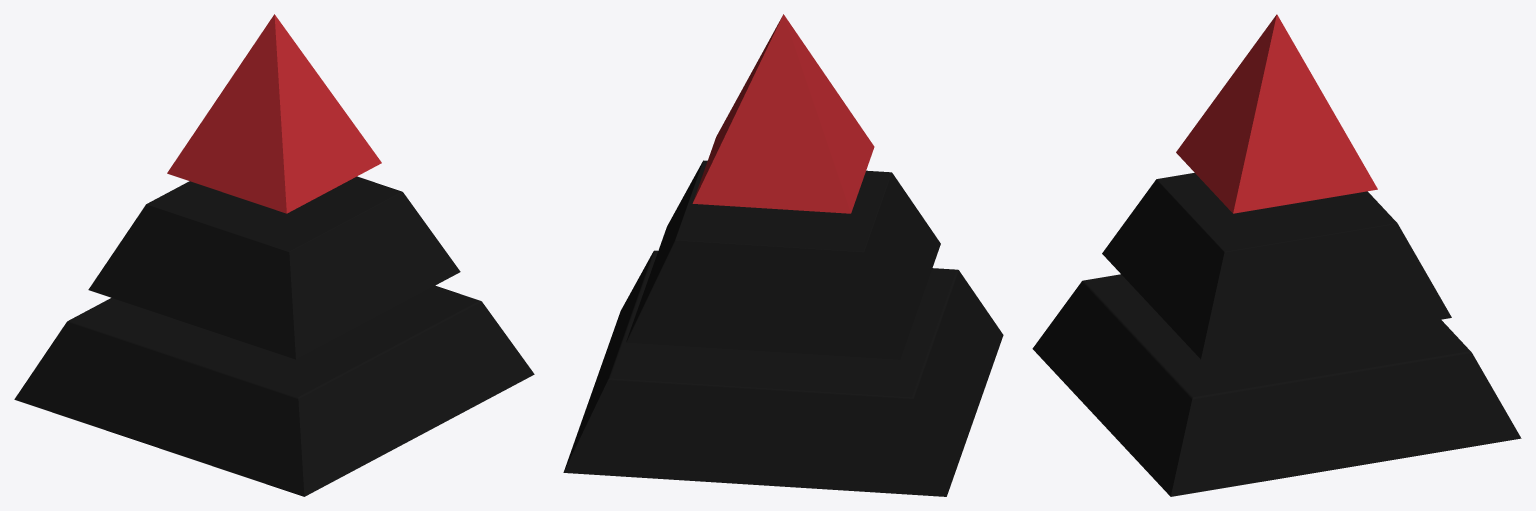
Rendered from pyramid_dark.glb.
3 renders of one model, left to right at view 1: azimuth 30°, elevation 25°; view 2: azimuth 150°, elevation 25°; view 3: azimuth 270°, elevation 25°, orthographic. The views are drawn at different scales.
Visible parts, largest first — view 1: Cone002; view 2: Cone002; view 3: Cone002.
Boxes of the visible parts, x1=… form: Cone002: x1=14, y1=14, x2=534, y2=496; Cone002: x1=563, y1=14, x2=1003, y2=496; Cone002: x1=1032, y1=14, x2=1521, y2=496.
Size of the model in its own units: 1.8 by 1.54 by 1.8.
